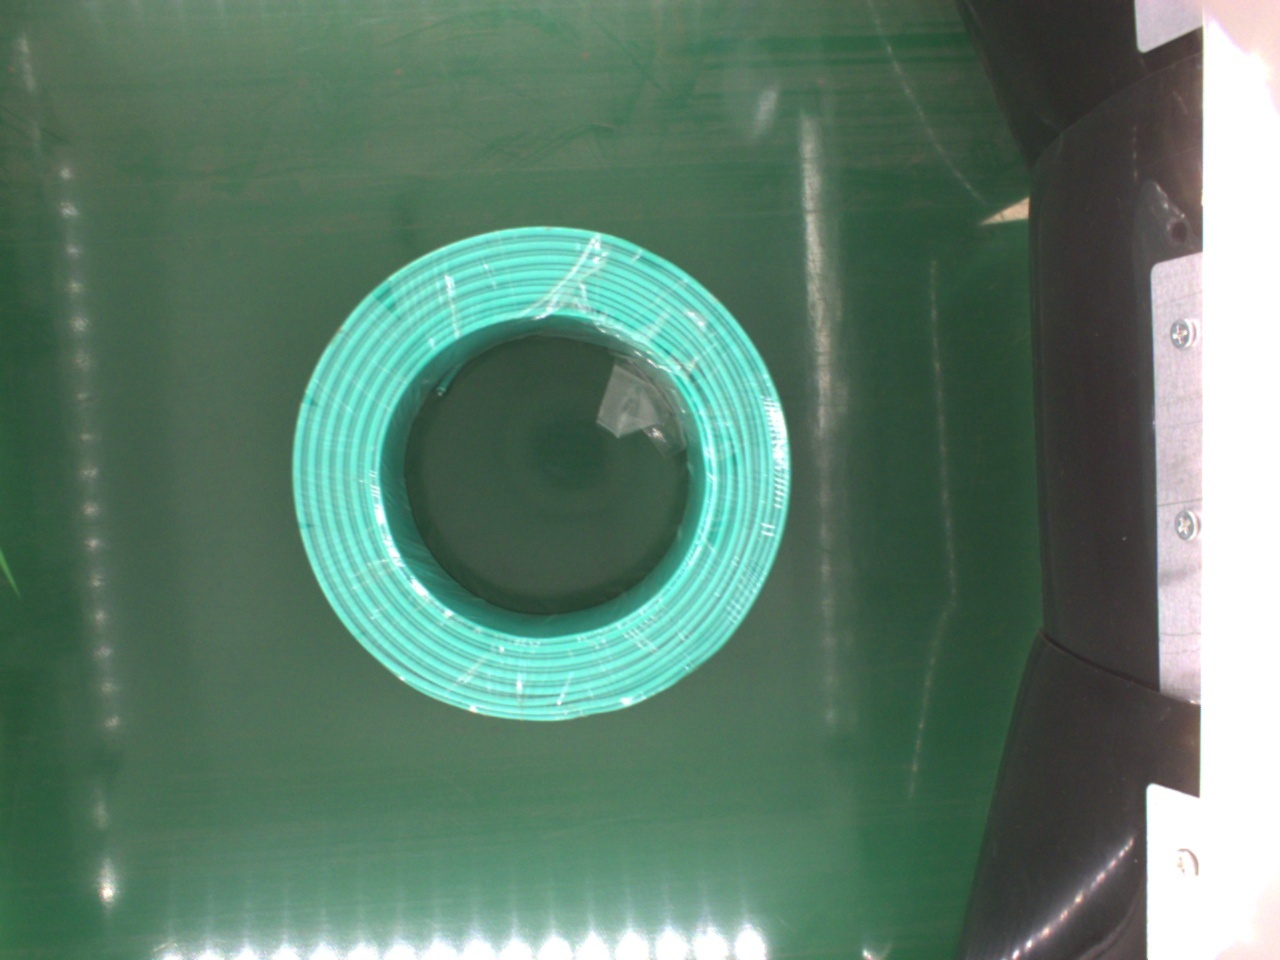green: (291, 228, 791, 724)
